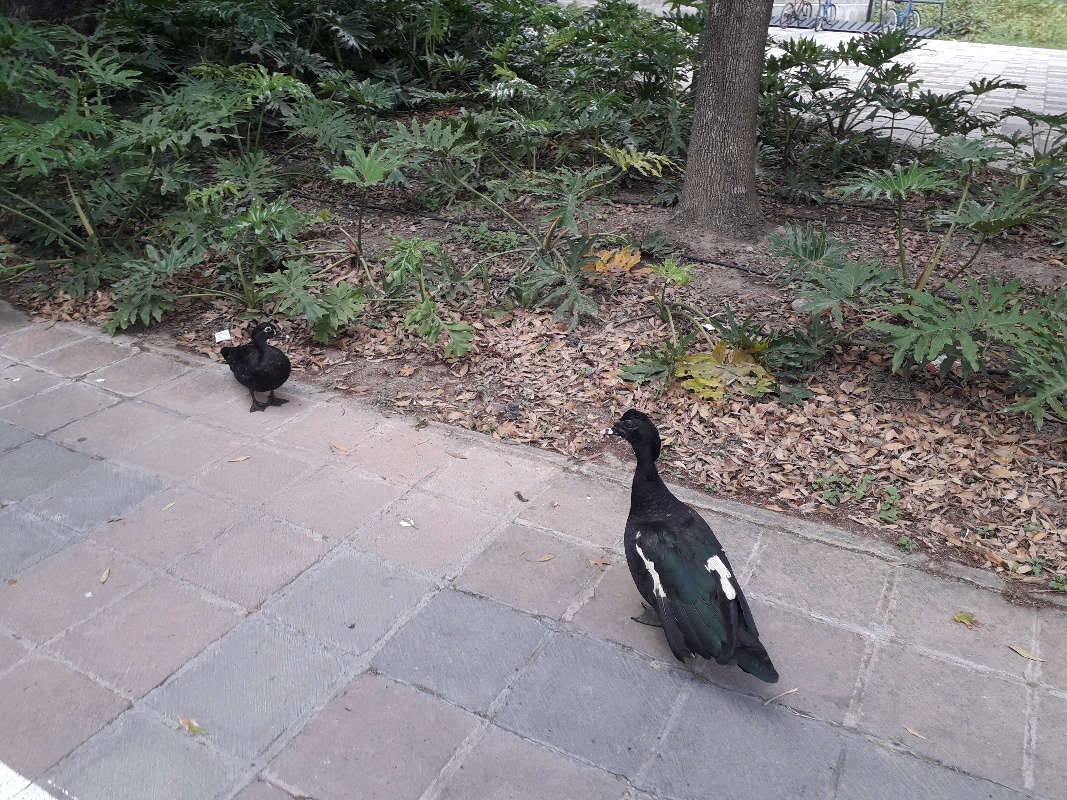pato: (607, 409, 767, 682), (217, 318, 288, 418)
